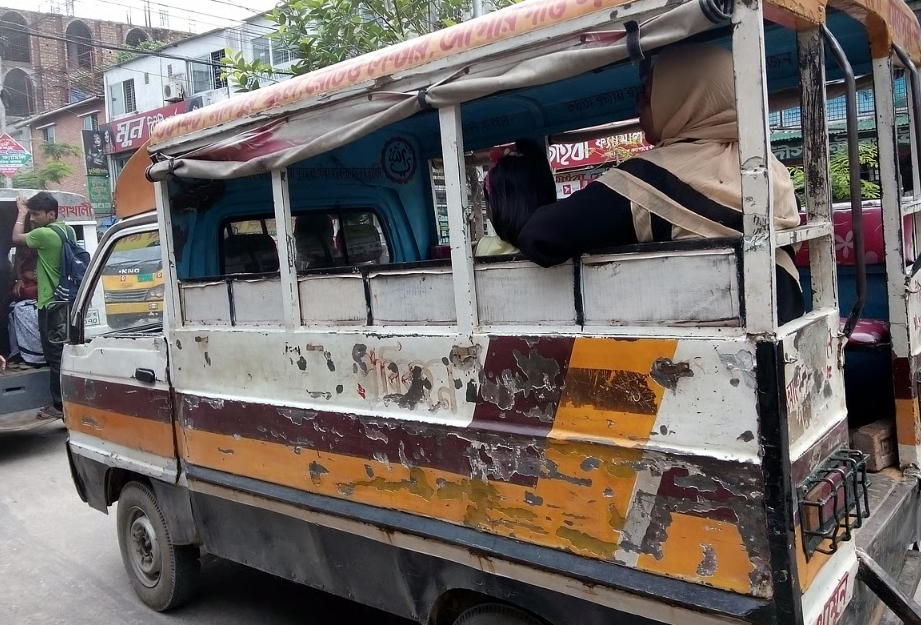Leguna: (75, 4, 921, 604), (1, 171, 108, 461)
